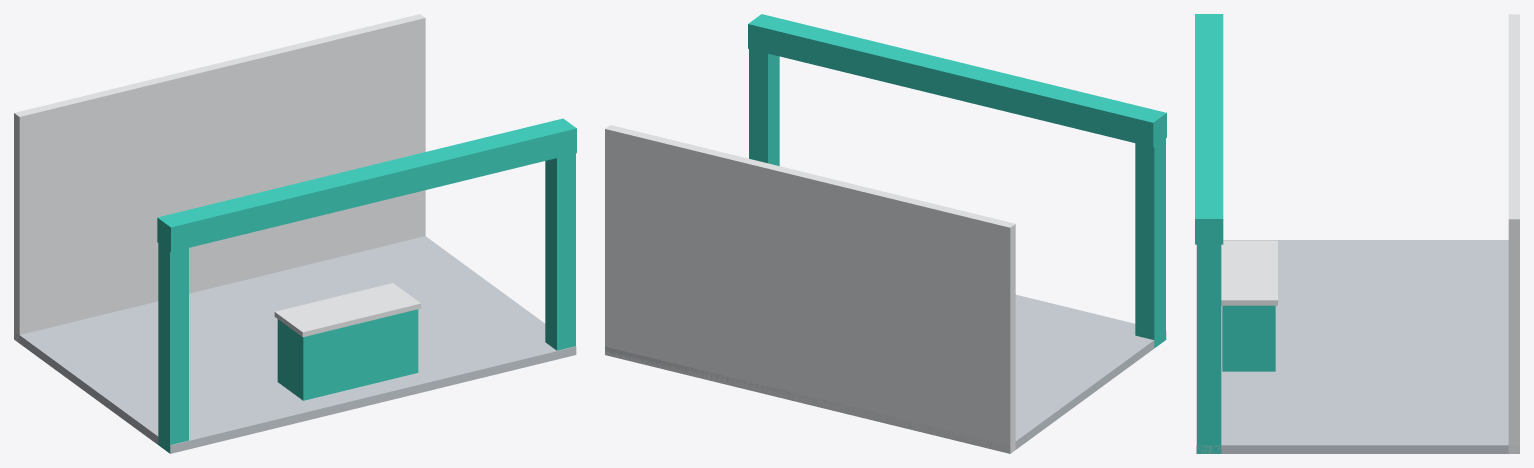
3 renders of one model, left to right at view 1: azimuth 30°, elevation 25°; view 2: azimuth 150°, elevation 25°; view 3: azimuth 270°, elevation 25°, orthographic. The views are drawn at different scales.
Parts seen in each view (by area): view 1: Exhibition Booth Concept; view 2: Exhibition Booth Concept; view 3: Exhibition Booth Concept.
Boxes of the visible parts, bbox=[...] form: Exhibition Booth Concept: bbox=[14, 14, 576, 453]; Exhibition Booth Concept: bbox=[605, 14, 1166, 453]; Exhibition Booth Concept: bbox=[1195, 14, 1519, 453].
Bounding box in the file's own units: 6 × 3.2 × 4.02.
